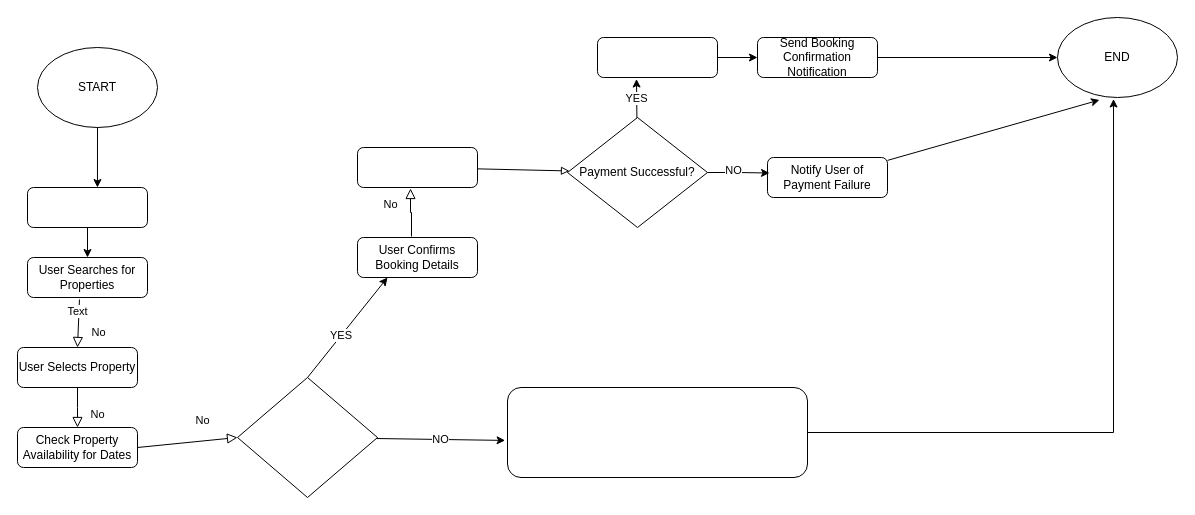
This 1195x515 diagram has some shape labels left out. Here are the shapes that lost their labels. From the top down, the centre of each, then its label:
At [657,57]: "Update Booking Status to 'Confirmed' in DB".
At [417,167]: "Initiate Payment Process".
At [87,207]: "User Logs".
At [307,437]: "Property Available?".
At [657,432]: "Notify User: Property Not Available for Dates".
